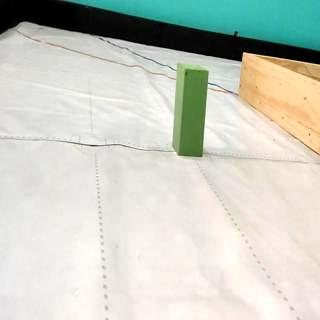greenbox: (175, 62, 211, 156)
